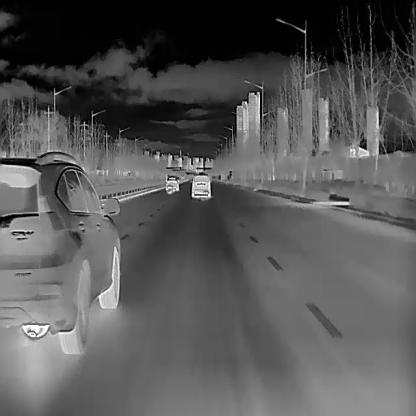car: (0, 150, 120, 352), (190, 174, 211, 199), (164, 174, 179, 192)
